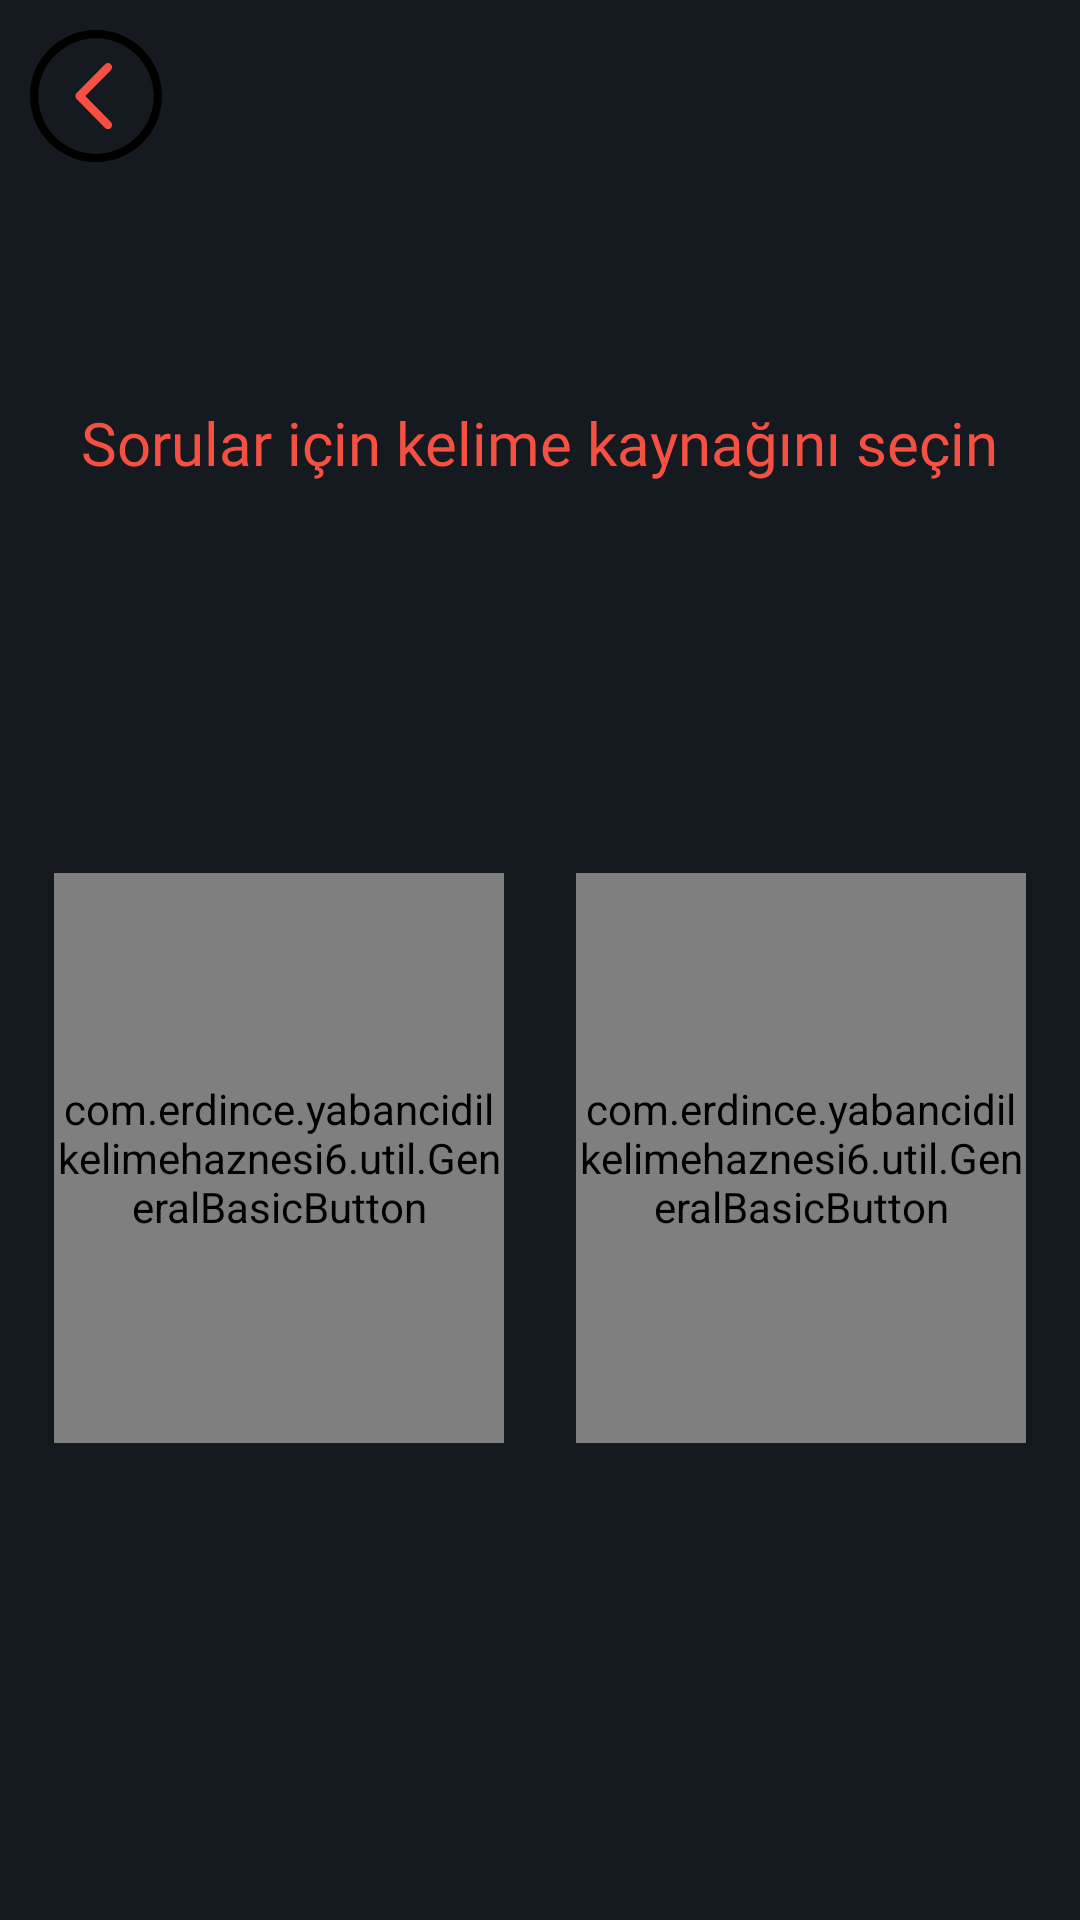

Named icons in this screenshot (1080 x 1920) and their bounding boxes, (x1, y1, x2, y2):
back: (30, 30, 162, 162)
